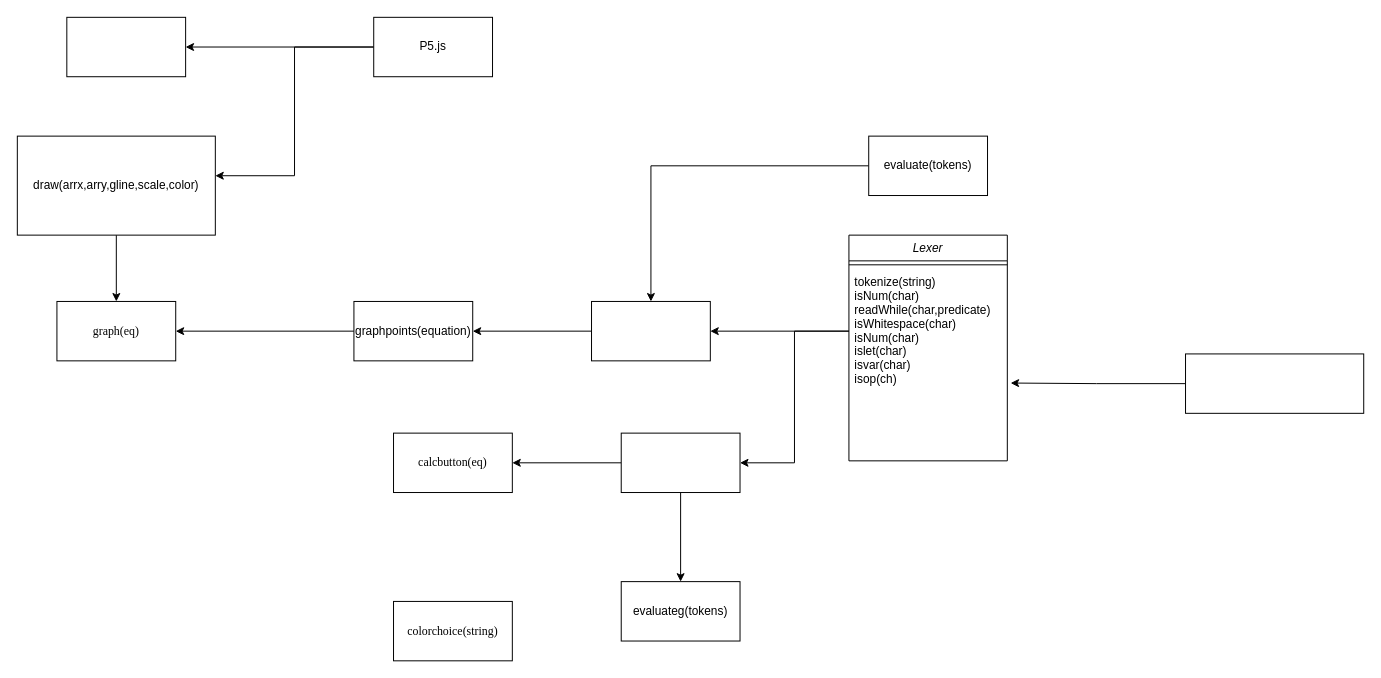
This 1381x678 diagram has some shape labels left out. The shapes that lost their labels are listed below. From the top down, each one's centre as x and y in pixels, then its label:
(x=126, y=46): setup()
(x=650, y=330): calciulateg(tokens)
(x=1274, y=383): infixToReversePolish(tokens)
(x=680, y=462): calciulate(tokens)
